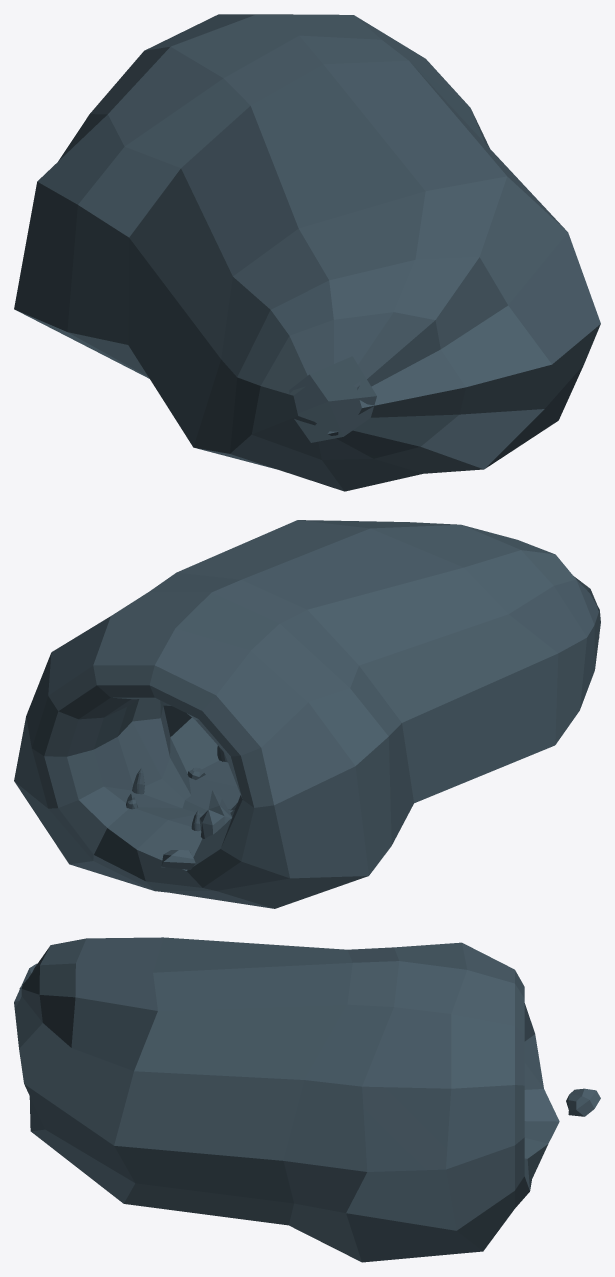
Rendered from cave_mouth.glb.
The picture shows the model from 3 angles, top to bottom: view 1: azimuth 30°, elevation 25°; view 2: azimuth 150°, elevation 25°; view 3: azimuth 270°, elevation 25°; orthographic projection. The views are drawn at different scales.
Parts seen in each view (by area): view 1: group96187052; view 2: group96187052; view 3: group96187052.
Boxes of the visible parts, x1,y1,x2,y2 form: group96187052: (14,14,600,491); group96187052: (14,520,600,908); group96187052: (14,937,600,1262).
Bounding box in the file's own units: 3.11 × 2.08 × 4.41.
